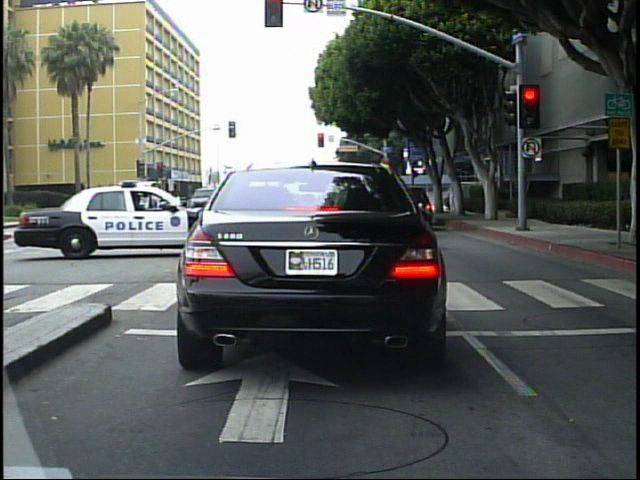person: (443, 179, 459, 216)
